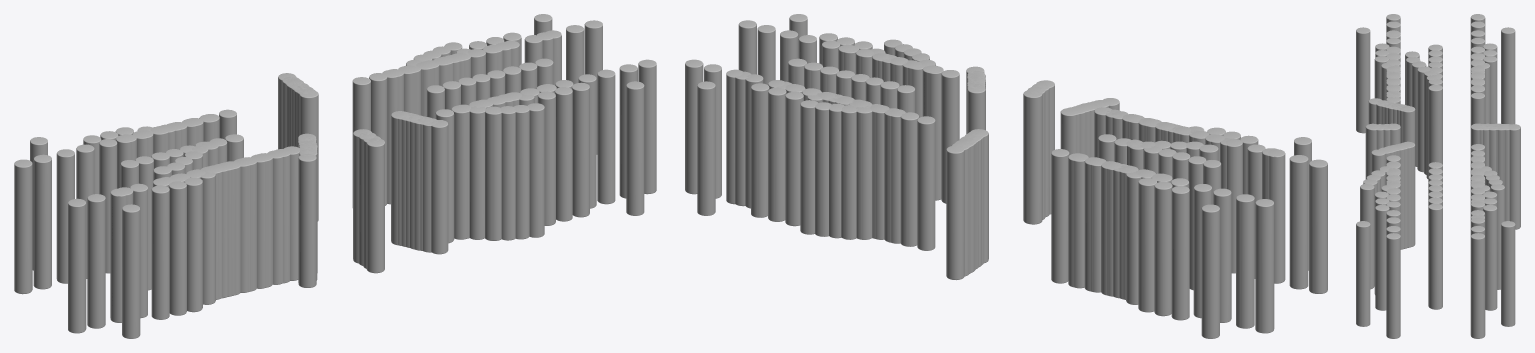
The model's file is Pillars.glb.
3 renders of one model, left to right at view 1: azimuth 30°, elevation 25°; view 2: azimuth 150°, elevation 25°; view 3: azimuth 270°, elevation 25°, orthographic. The views are drawn at different scales.
Parts seen in each view (by area): view 1: Boat_Pillars_Wood_LEG_REC_TABLE, Verbaan_Pillars_Wood_LEG_REC_TABLE, Rectangle_Pillars_Wood_LEG_REC_TABLE, Organic_Pillars_Wood_LEG_REC_TABLE, Oval_Pillars_Wood_LEG_REC_TABLE, Round_Pillars_Wood_LEG_ROUND_TABLE, Halve_Pillars_Wood_LEG_REC_TABLE, Round_Pillars_Metal_LEG_ROUND_TABLE, Halve_Pillars_Wood_LEG_REC_TABLE_90_100_110_200_Variant_2, Halve_Pillars_Wood_LEG_REC_TABLE_90_100_110_220_Variant_2, Halve_Pillars_Wood_LEG_REC_TABLE_90_100_110_240_Variant_2, Organic_Pillars_Metal_LEG_LEG_REC_TABLE_120_240 (+8 smaller); view 2: Boat_Pillars_Wood_LEG_REC_TABLE, Rectangle_Pillars_Wood_LEG_REC_TABLE, Verbaan_Pillars_Wood_LEG_REC_TABLE, Round_Pillars_Wood_LEG_ROUND_TABLE, Oval_Pillars_Wood_LEG_REC_TABLE, Halve_Pillars_Wood_LEG_REC_TABLE, Organic_Pillars_Wood_LEG_REC_TABLE, Verbaan_Pillars_Metal_LEG_LEG_REC_TABLE_90_100_110_180, Rectangle_Pillars_Metal_LEG_LEG_REC_TABLE_90_100_110_400, Verbaan_Pillars_Metal_LEG_LEG_REC_TABLE_90_100_110_400, Boat_Pillars_Metal_LEG_LEG_REC_TABLE_120_300, Boat_Pillars_Metal_LEG_LEG_REC_TABLE_120_280 (+42 smaller); view 3: Boat_Pillars_Wood_LEG_REC_TABLE, Round_Pillars_Wood_LEG_ROUND_TABLE, Oval_Pillars_Wood_LEG_REC_TABLE, Rectangle_Pillars_Wood_LEG_REC_TABLE, Boat_Pillars_Metal_LEG_LEG_REC_TABLE_140_350, Boat_Pillars_Metal_LEG_LEG_REC_TABLE_120_300, Organic_Pillars_Wood_LEG_REC_TABLE, Oval_Pillars_Metal_LEG_LEG_REC_TABLE_120_300, Organic_Pillars_Metal_LEG_LEG_REC_TABLE_140_300, Halve_Pillars_Wood_LEG_REC_TABLE, Verbaan_Pillars_Wood_LEG_REC_TABLE, Boat_Pillars_Metal_LEG_LEG_REC_TABLE_120_260 (+29 smaller).
Part boxes in pixels (x1,y1,x2,y2): Boat_Pillars_Wood_LEG_REC_TABLE: (30,15,644,338); Verbaan_Pillars_Wood_LEG_REC_TABLE: (33,25,637,328); Rectangle_Pillars_Wood_LEG_REC_TABLE: (14,20,656,333); Organic_Pillars_Wood_LEG_REC_TABLE: (153,44,544,240); Oval_Pillars_Wood_LEG_REC_TABLE: (123,60,552,290); Round_Pillars_Wood_LEG_ROUND_TABLE: (278,73,448,287); Halve_Pillars_Wood_LEG_REC_TABLE: (14,26,655,332); Round_Pillars_Metal_LEG_ROUND_TABLE: (279,73,446,254); Halve_Pillars_Wood_LEG_REC_TABLE_90_100_110_200_Variant_2: (283,74,387,280); Halve_Pillars_Wood_LEG_REC_TABLE_90_100_110_220_Variant_2: (267,69,403,284); Halve_Pillars_Wood_LEG_REC_TABLE_90_100_110_240_Variant_2: (256,68,421,288); Organic_Pillars_Metal_LEG_LEG_REC_TABLE_120_240: (184,54,500,240); Boat_Pillars_Wood_LEG_REC_TABLE: (701,14,1311,338); Rectangle_Pillars_Wood_LEG_REC_TABLE: (685,20,1327,333); Verbaan_Pillars_Wood_LEG_REC_TABLE: (704,25,1308,328); Round_Pillars_Wood_LEG_ROUND_TABLE: (946,66,1119,280); Oval_Pillars_Wood_LEG_REC_TABLE: (795,58,1221,289); Halve_Pillars_Wood_LEG_REC_TABLE: (703,25,1327,332); Organic_Pillars_Wood_LEG_REC_TABLE: (806,39,1218,239); Verbaan_Pillars_Metal_LEG_LEG_REC_TABLE_90_100_110_180: (889,70,1119,283); Rectangle_Pillars_Metal_LEG_LEG_REC_TABLE_90_100_110_400: (686,20,1325,332); Verbaan_Pillars_Metal_LEG_LEG_REC_TABLE_90_100_110_400: (705,25,1306,328); Boat_Pillars_Metal_LEG_LEG_REC_TABLE_120_300: (751,33,1256,320); Boat_Pillars_Metal_LEG_LEG_REC_TABLE_120_280: (768,37,1239,316); Boat_Pillars_Wood_LEG_REC_TABLE: (1356,27,1514,326); Round_Pillars_Wood_LEG_ROUND_TABLE: (1368,98,1520,249); Oval_Pillars_Wood_LEG_REC_TABLE: (1365,45,1502,307); Rectangle_Pillars_Wood_LEG_REC_TABLE: (1386,14,1484,338); Boat_Pillars_Metal_LEG_LEG_REC_TABLE_140_350: (1357,27,1515,326); Boat_Pillars_Metal_LEG_LEG_REC_TABLE_120_300: (1376,43,1497,310); Organic_Pillars_Wood_LEG_REC_TABLE: (1360,51,1503,221); Oval_Pillars_Metal_LEG_LEG_REC_TABLE_120_300: (1368,44,1506,309); Organic_Pillars_Metal_LEG_LEG_REC_TABLE_140_300: (1361,52,1504,289); Halve_Pillars_Wood_LEG_REC_TABLE: (1386,18,1484,338); Verbaan_Pillars_Wood_LEG_REC_TABLE: (1386,21,1484,235); Boat_Pillars_Metal_LEG_LEG_REC_TABLE_120_260: (1376,56,1497,200).
Size of the model in its own units: 3.49 by 0.7254 by 1.08.
14 materials, 14 textured.
